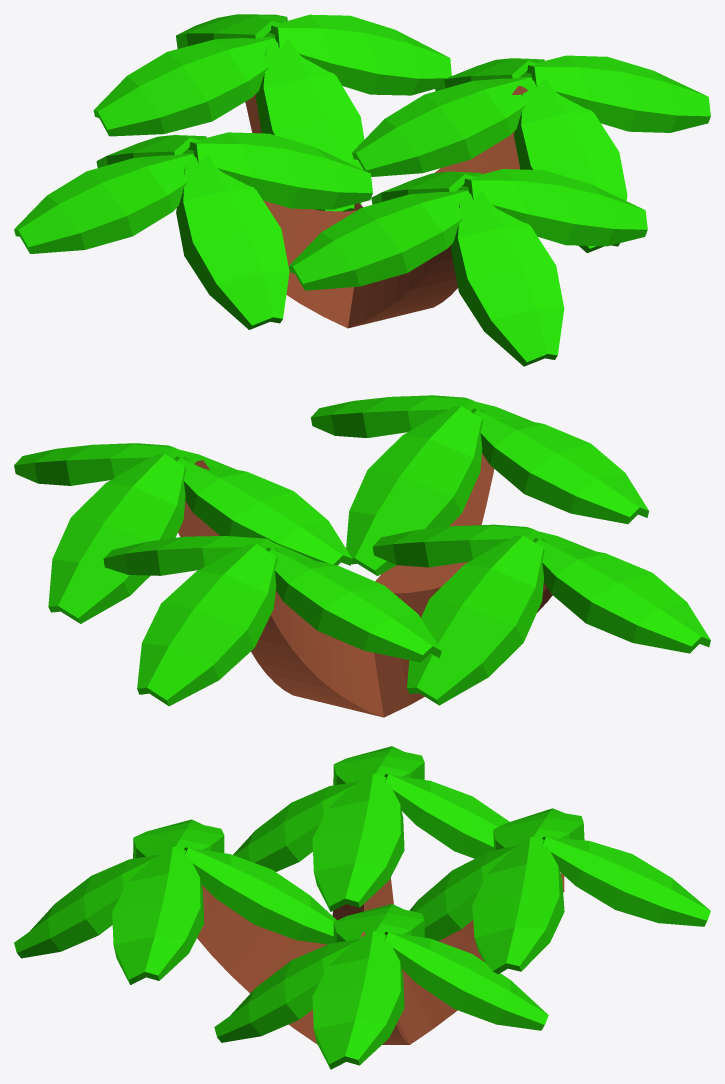
File: tree7.fbx
3 renders of one model, top to bottom at view 1: azimuth 30°, elevation 25°; view 2: azimuth 150°, elevation 25°; view 3: azimuth 270°, elevation 25°, orthographic. The views are drawn at different scales.
Visible parts, largest first — view 1: Cube_3_2, Cube_3_3, Cube_1, Cube_1_3, Cube_1_2, Cube_1_4, Pyramid, Cube_2, Cube_2_4, Cube_2_3, Cube_2_2, Cube_3 (+5 smaller); view 2: Pyramid, Cube_4, Cube_4_3, Cube_4_2, Cube_4_4, Cube_1_3, Cube_1_2, Cube_1, Cube_1_4, Cube_2_2, Cube_2_4, Cube_2_3 (+1 smaller); view 3: Pyramid, Cube_2_3, Cube_2_4, Cube_2_2, Cube_2, Cube_4, Cube_4_4, Cube_4_2, Cube_3_2, Cube_3_4, Cube_4_3, Cube_3_3 (+5 smaller).
Boxes of the visible parts, x1,y1,x2,y2 form: Cube_3_2: [451, 191, 564, 366]; Cube_3_3: [176, 155, 289, 329]; Cube_1: [93, 36, 275, 136]; Cube_1_3: [14, 153, 194, 253]; Cube_1_2: [289, 190, 469, 290]; Cube_1_4: [352, 76, 532, 176]; Pyramid: [245, 85, 528, 328]; Cube_2: [269, 14, 451, 95]; Cube_2_4: [526, 55, 710, 132]; Cube_2_3: [188, 132, 372, 209]; Cube_2_2: [462, 169, 647, 246]; Cube_3: [256, 40, 364, 211]; Pyramid: [178, 453, 552, 717]; Cube_4: [137, 544, 277, 706]; Cube_4_3: [407, 535, 544, 705]; Cube_4_2: [346, 406, 482, 575]; Cube_4_4: [48, 454, 186, 623]; Cube_1_3: [535, 539, 710, 653]; Cube_1_2: [474, 410, 648, 524]; Cube_1: [268, 549, 441, 662]; Cube_1_4: [177, 457, 352, 565]; Cube_2_2: [311, 395, 487, 437]; Cube_2_4: [14, 443, 190, 485]; Cube_2_3: [372, 524, 549, 567]; Pyramid: [197, 873, 564, 1044]; Cube_2_3: [312, 773, 404, 911]; Cube_2_4: [312, 931, 404, 1069]; Cube_2_2: [112, 846, 204, 984]; Cube_2: [472, 836, 564, 974]; Cube_4: [542, 836, 710, 926]; Cube_4_4: [384, 932, 548, 1030]; Cube_4_2: [184, 847, 336, 944]; Cube_3_2: [14, 854, 160, 958]; Cube_3_4: [214, 939, 360, 1042]; Cube_4_3: [384, 774, 509, 858]; Cube_3_3: [233, 781, 360, 871].
Size of the model in its own units: 2324 by 687 by 2277.
